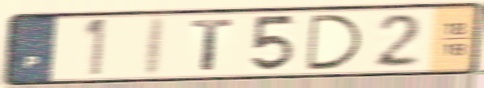1: (81, 16, 110, 80)
2: (371, 12, 426, 70)
5: (247, 13, 301, 74)
D: (305, 13, 367, 72)
I: (139, 14, 170, 79)
T: (188, 17, 238, 72)
